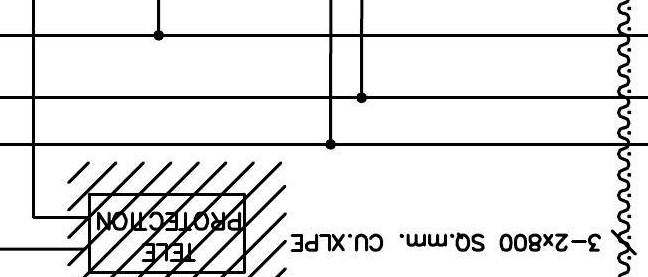tele_protection: (85, 190, 249, 277)
